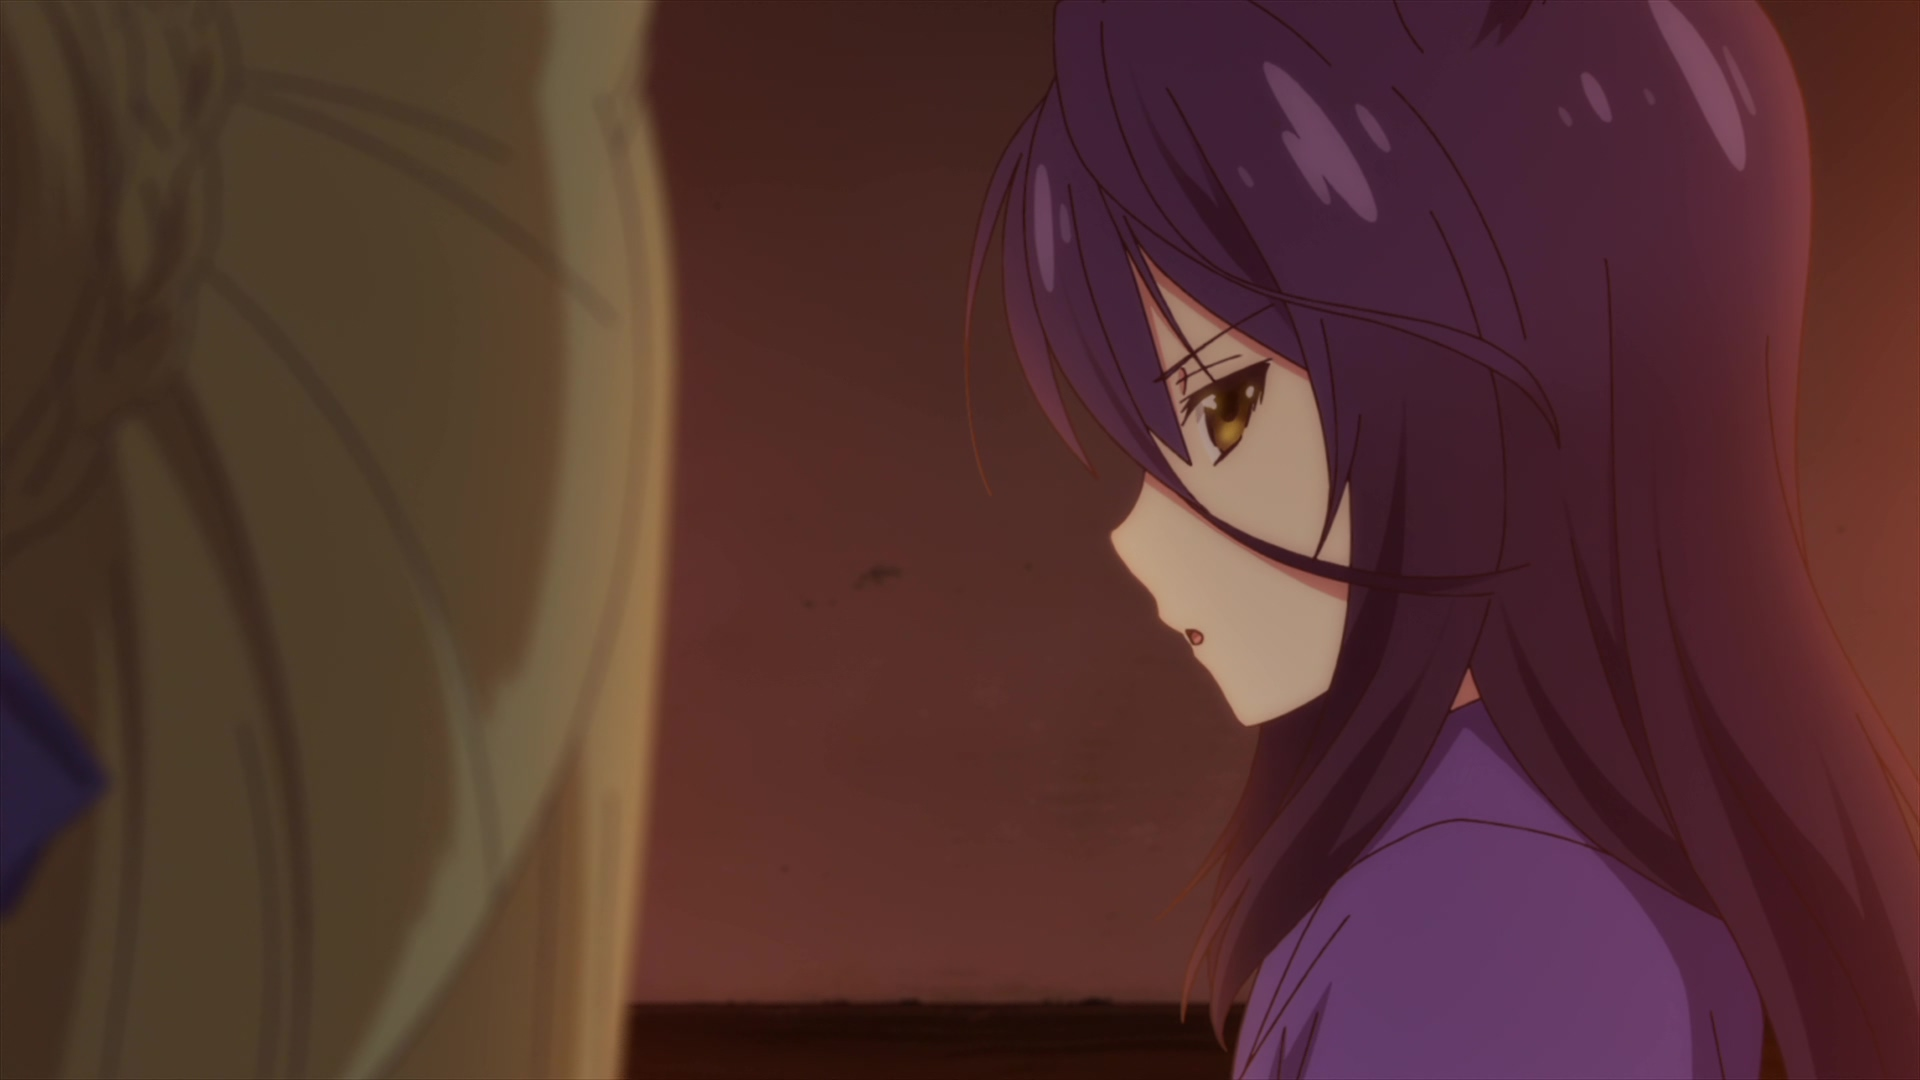不计算: (1, 1, 676, 1080)
皋: (963, 1, 1920, 1080)
